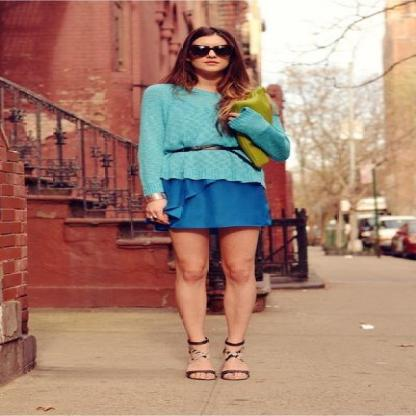bag: (212, 75, 284, 170)
jacket: (138, 84, 289, 196)
shoe: (185, 341, 249, 380)
skirt: (162, 178, 272, 228)
sunglass: (212, 42, 241, 63)
